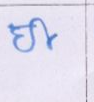i_matra: (32, 18, 56, 49)
